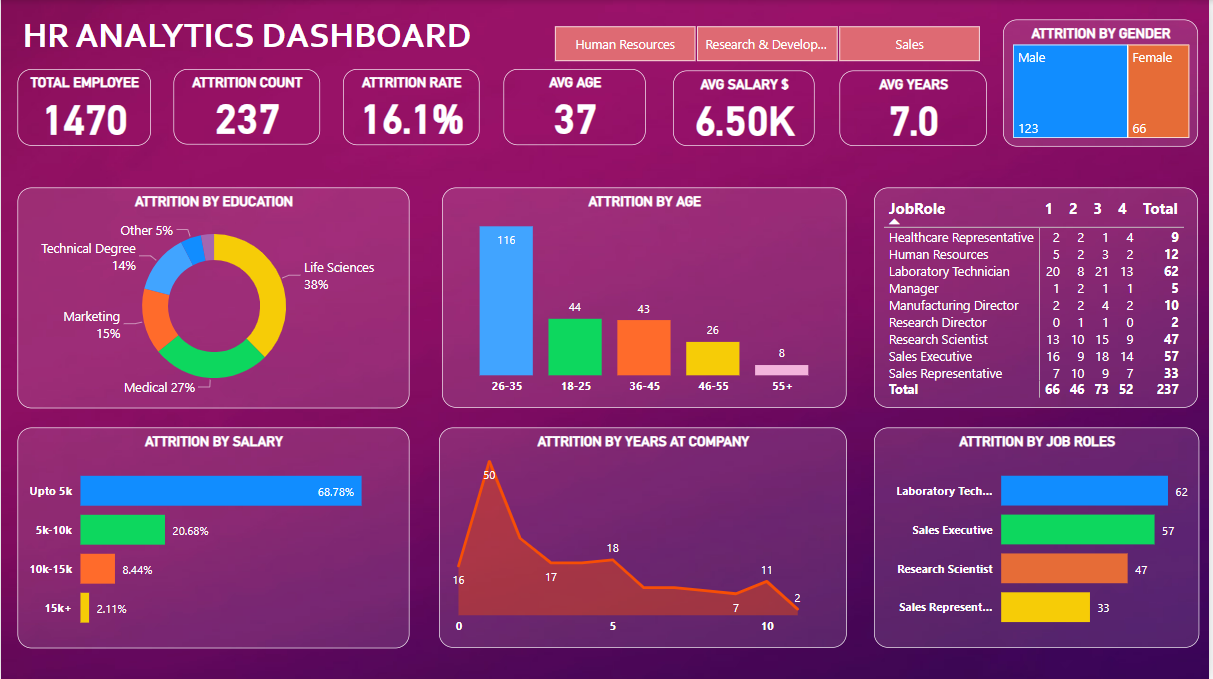

This screenshot's page, from the dashboard's own definition file:
{"tool":"powerbi","page":{"name":"Page 1","canvas":[1280,720],"ordinal":0},"visuals":[{"type":"card","title":"TOTAL EMPLOYEE","fields":{"Values":["CountNonNull(HR_Analytics.EmpID)"]},"box":[17.5,72.5,141.2,81.2],"z":0},{"type":"card","title":"ATTRITION COUNT","fields":{"Values":["Sum(HR_Analytics.AttritionCount)"]},"box":[182.5,73.8,155,80],"z":1000},{"type":"card","title":"ATTRITION RATE","fields":{"Values":["HR_Analytics.Measure"]},"box":[361.9,73,144.4,81],"z":2000},{"type":"card","title":"AVG AGE","fields":{"Values":["Avg(HR_Analytics.Age)"]},"box":[531.7,73,150.8,81],"z":3000},{"type":"card","title":"AVG SALARY $","fields":{"Values":["Avg(HR_Analytics.MonthlyIncome)"]},"box":[712.8,74.4,150.3,80.2],"z":4000},{"type":"card","title":"AVG YEARS ","fields":{"Values":["Avg(HR_Analytics.YearsAtCompany)"]},"box":[888.9,74.4,156,80.2],"z":5000},{"type":"donutChart","title":"ATTRITION BY EDUCATION","fields":{"Category":["HR_Analytics.EducationField"],"Y":["Sum(HR_Analytics.AttritionCount)"]},"box":[17.5,198.8,415,233.8],"z":6000},{"type":"columnChart","title":"ATTRITION BY AGE","fields":{"Category":["HR_Analytics.AgeGroup"],"Y":["Sum(HR_Analytics.AttritionCount)"]},"box":[466.7,198.4,428.6,233.3],"z":7000},{"type":"pivotTable","fields":{"Rows":["HR_Analytics.JobRole"],"Columns":["HR_Analytics.JobSatisfaction"],"Values":["Sum(HR_Analytics.AttritionCount)"]},"box":[924.7,199,343.5,233.3],"z":8000},{"type":"clusteredBarChart","title":"ATTRITION BY SALARY","fields":{"Category":["HR_Analytics.SalarySlab"],"Y":["Sum(HR_Analytics.AttritionCount)"]},"box":[17.5,452.5,415,233.8],"z":9000},{"type":"clusteredBarChart","title":"ATTRITION BY JOB ROLES","fields":{"Category":["HR_Analytics.JobRole"],"Y":["Sum(HR_Analytics.AttritionCount)"]},"box":[925.4,452.4,344.4,233.3],"z":10000},{"type":"areaChart","title":"ATTRITION BY YEARS AT COMPANY","fields":{"Category":["HR_Analytics.YearsAtCompany"],"Y":["Sum(HR_Analytics.AttritionCount)"]},"box":[463.5,452.4,431.7,233.3],"z":11000},{"type":"treemap","title":"ATTRITION BY GENDER","fields":{"Group":["HR_Analytics.Gender"],"Values":["Sum(HR_Analytics.AttritionCount)"]},"box":[1061.9,20.6,206.3,134.9],"z":12000},{"type":"slicer","title":"DEPARTMENTS","fields":{"Values":["HR_Analytics.Department"]},"box":[561.2,21.2,500,51.2],"z":13000},{"type":"textbox","box":[0,10,521.2,57.5],"z":14000}]}

Visuals, with their boxes in screenshot pixels (x1, y1, x2, y2), scaled from the page's 1280x720 canvas onto the 1213x679 screenshot:
"TOTAL EMPLOYEE" card: locate(17, 68, 150, 145)
"ATTRITION COUNT" card: locate(173, 70, 320, 145)
"ATTRITION RATE" card: locate(343, 69, 480, 145)
"AVG AGE" card: locate(504, 69, 647, 145)
"AVG SALARY $" card: locate(675, 70, 818, 146)
"AVG YEARS " card: locate(842, 70, 990, 146)
"ATTRITION BY EDUCATION" donutChart: locate(17, 187, 410, 408)
"ATTRITION BY AGE" columnChart: locate(442, 187, 848, 407)
pivotTable - HR_Analytics.JobRole x HR_Analytics.JobSatisfaction: locate(876, 188, 1202, 408)
"ATTRITION BY SALARY" clusteredBarChart: locate(17, 427, 410, 647)
"ATTRITION BY JOB ROLES" clusteredBarChart: locate(877, 427, 1203, 647)
"ATTRITION BY YEARS AT COMPANY" areaChart: locate(439, 427, 848, 647)
"ATTRITION BY GENDER" treemap: locate(1006, 19, 1202, 147)
"DEPARTMENTS" slicer: locate(532, 20, 1006, 68)
textbox: locate(0, 9, 494, 64)
